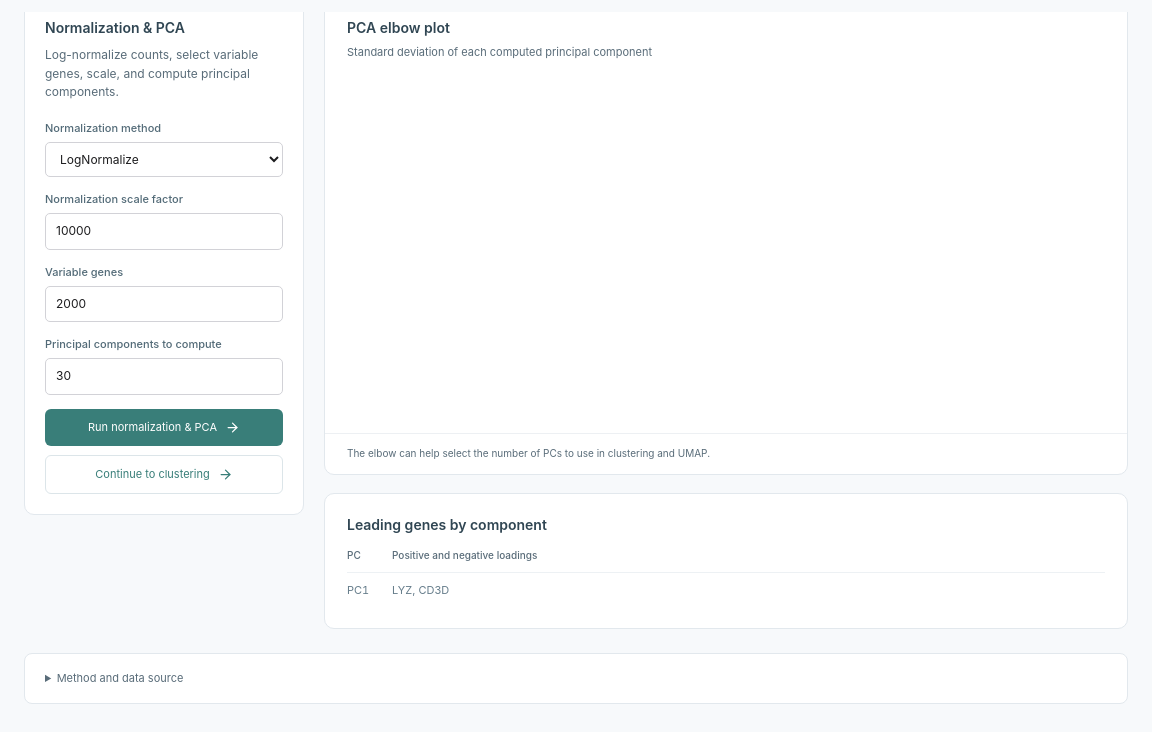
Test: public analysis demo › requires an explicit clustering action after PCA and forwards all chosen parameters
The image size is (1152, 732).
(page scrolled)
Step 1. Click the button "Continue to clustering" → (164, 474), box [45,455,283,494]
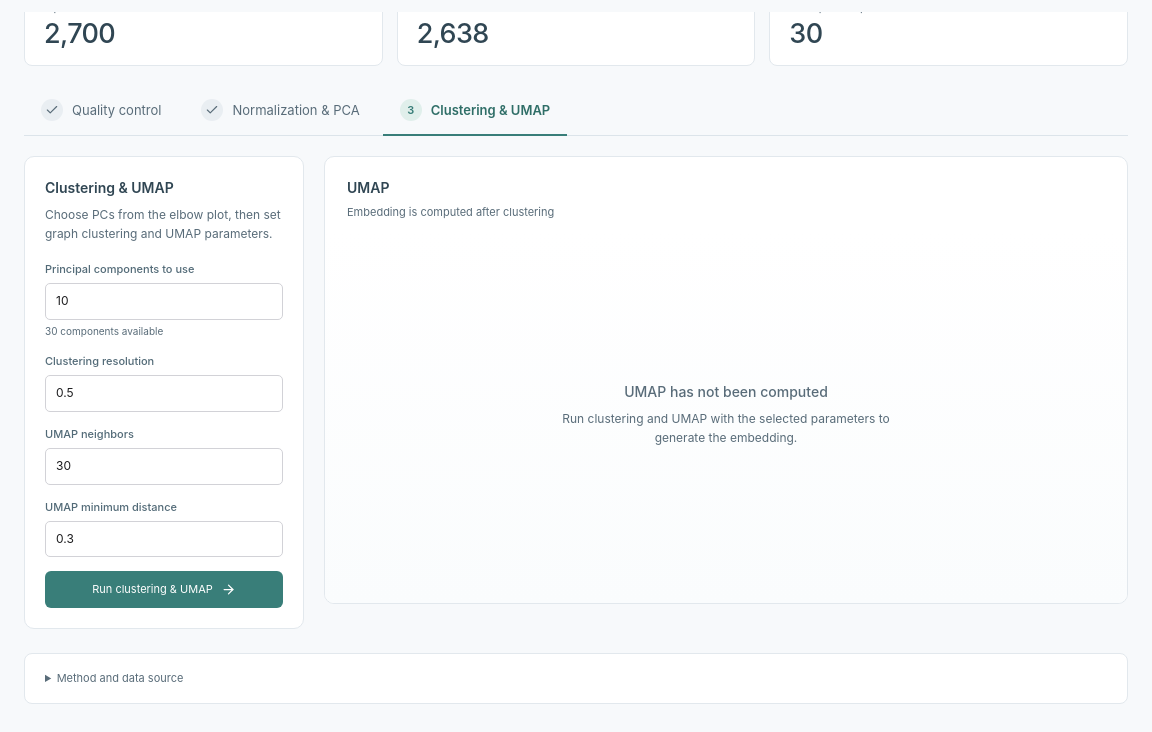
Now the heading "UMAP has not been computed" is shown, box [624,381,828,402]
Step 2. Replace the text in the field labelled "Principal components to use" with "15" → (164, 302), box [45,283,283,320]
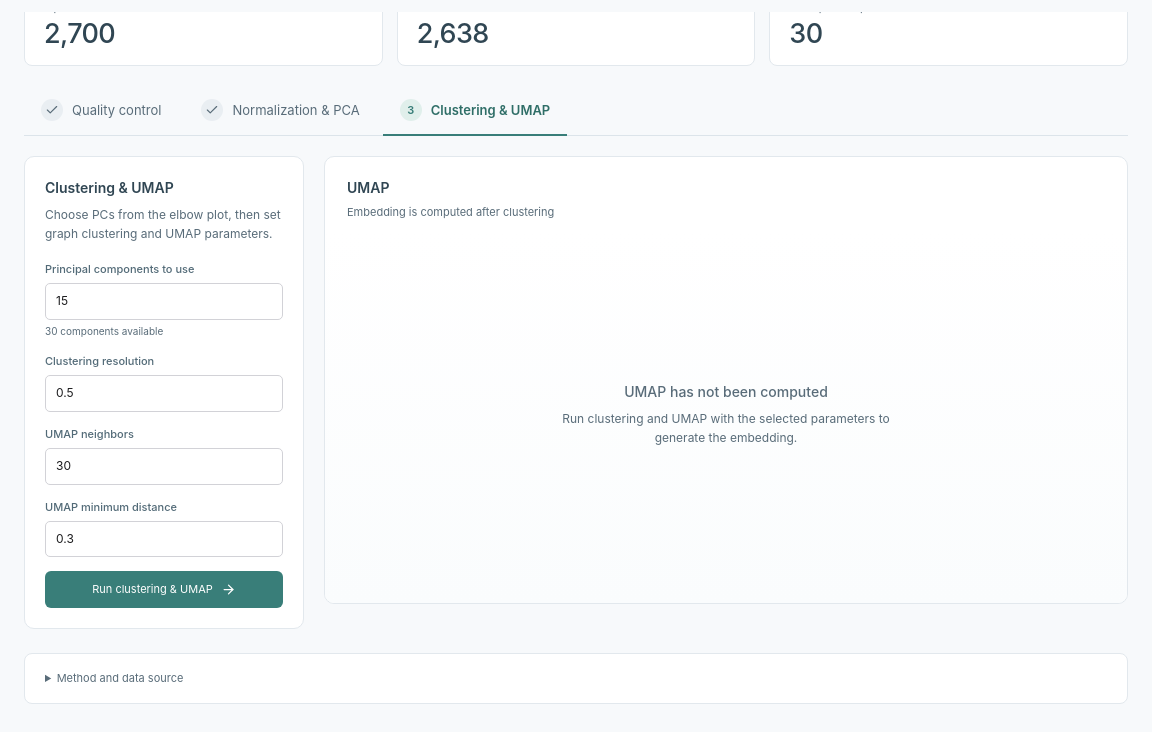
Step 3. Replace the text in the field labelled "Clustering resolution" with "0.8" → (164, 394), box [45,376,283,412]
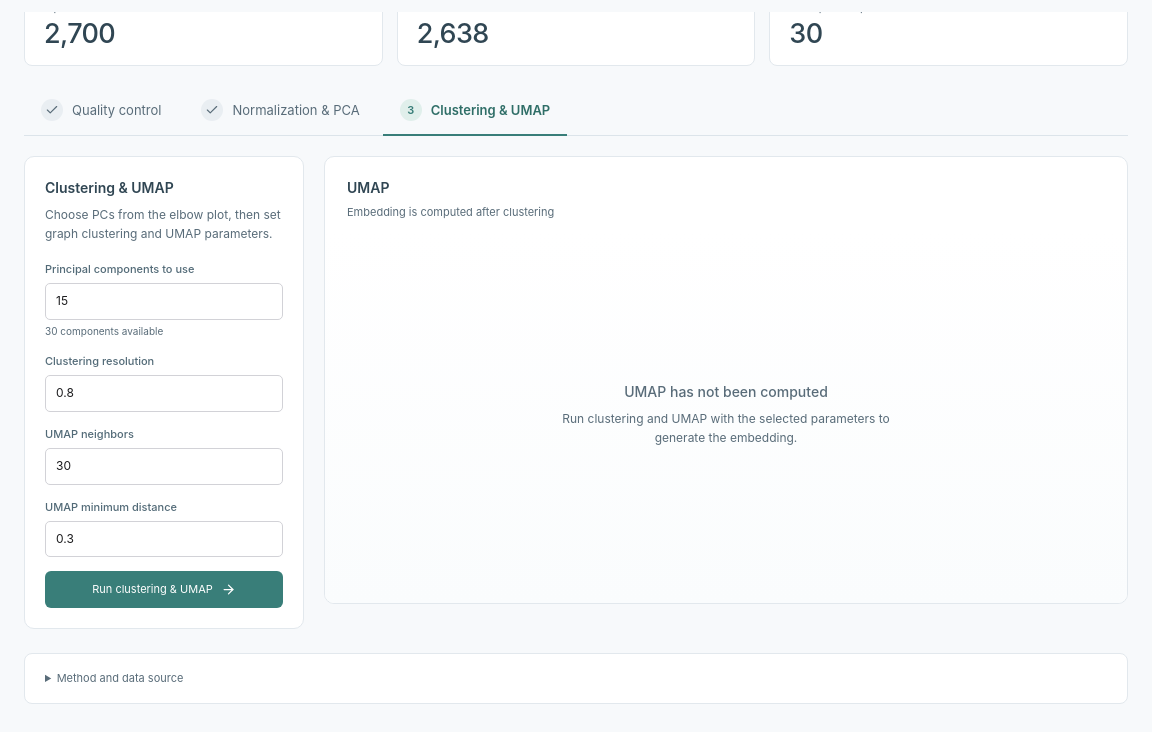
Step 4. Click the button "Run clustering & UMAP" → (164, 590), box [45,571,283,608]
(page scrolled)
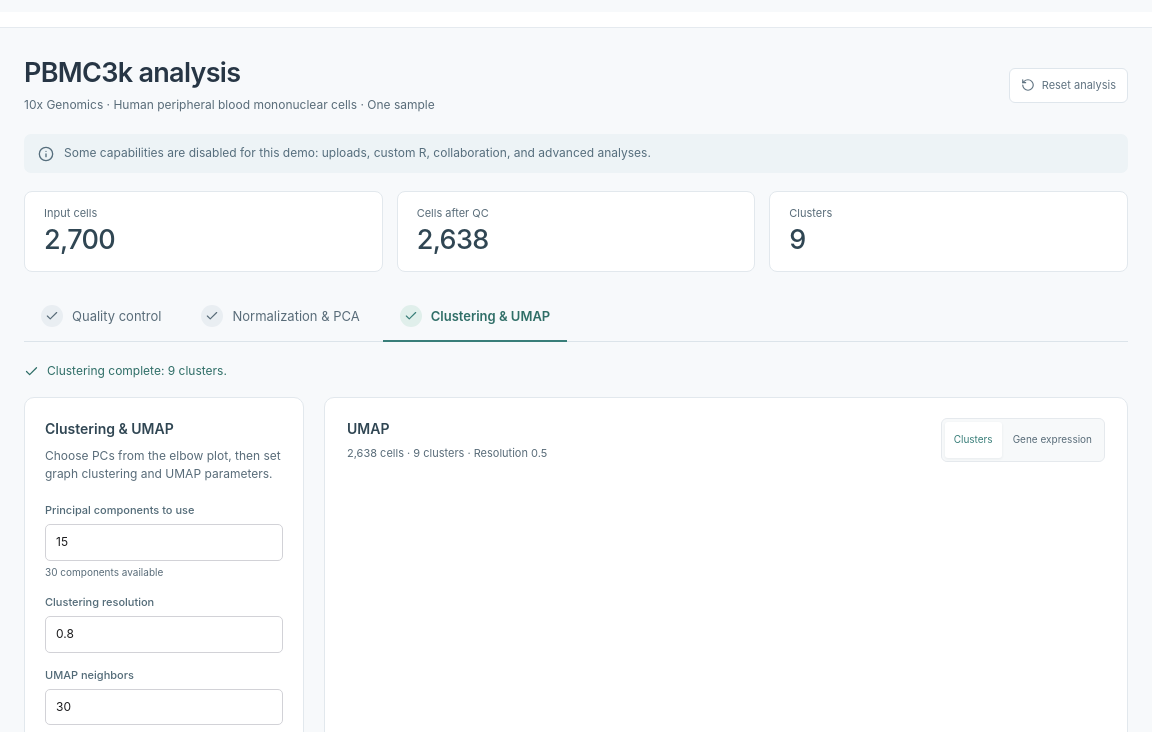
Now the text "Clustering complete: 9 clusters." is shown, box [24,363,227,379]
